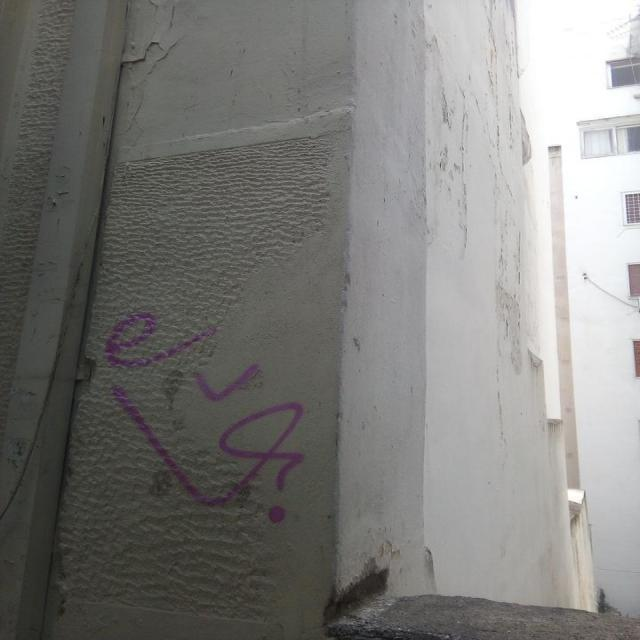nonspitting: (103, 309, 308, 524)
